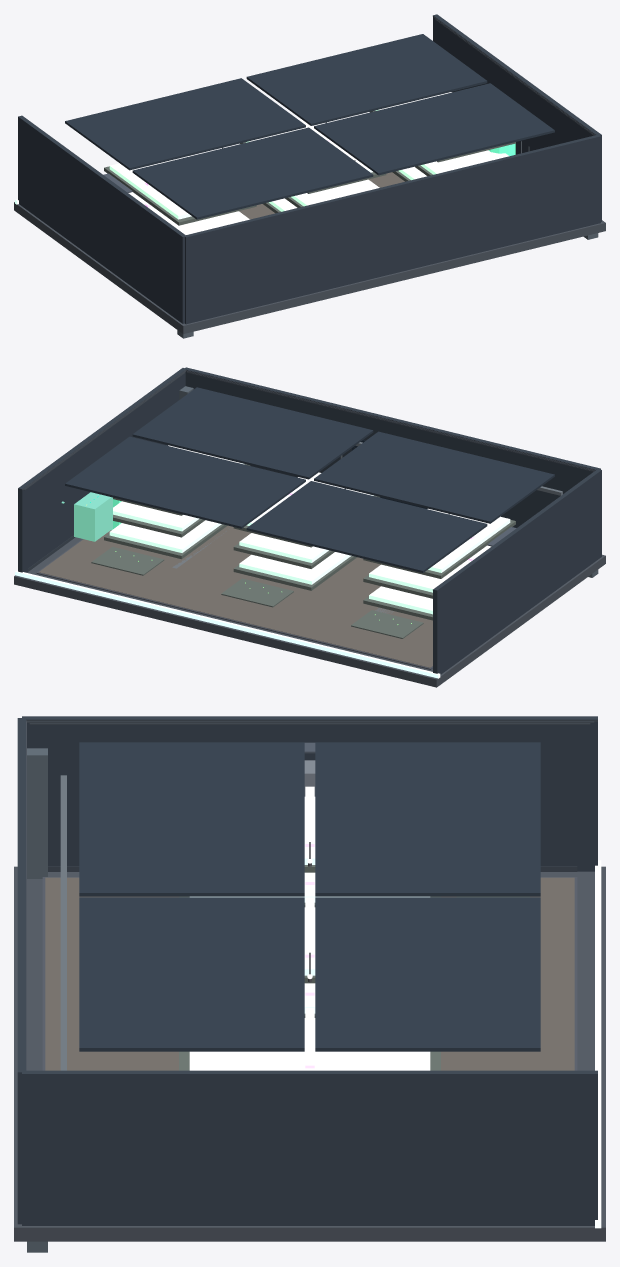
Rendered from floor-vertical-farm.glb.
The picture shows the model from 3 angles, top to bottom: view 1: azimuth 30°, elevation 25°; view 2: azimuth 150°, elevation 25°; view 3: azimuth 270°, elevation 25°; orthographic projection. The views are drawn at different scales.
Visible parts, largest first — view 1: WallBack_food, WallL_food, Coffer_-1_-1_food, Coffer_-1_1_food, Coffer_1_1_food, Coffer_1_-1_food, Slab_food, WallR_food, Crop_0_2, Crop_0_1, Crop_1_1, Crop_2_1 (+2 smaller); view 2: FoodFloor, WallL_food, Coffer_-1_-1_food, Coffer_1_-1_food, Coffer_-1_1_food, Coffer_1_1_food, WallR_food, WallBack_food, Slab_food, Reveal_food, Crop_1_0, Crop_2_0 (+20 smaller); view 3: WallR_food, Coffer_-1_-1_food, Coffer_-1_1_food, Coffer_1_-1_food, Coffer_1_1_food, WallL_food, Slab_food, FoodFloor, Crop_2_2, WallBack_food, Post_food_-1, Reveal_food (+5 smaller).
Part boxes in pixels (x1,y1,x2,y2): WallBack_food: (184, 134, 600, 324); WallL_food: (18, 115, 185, 323); Coffer_-1_-1_food: (132, 127, 373, 219); Coffer_-1_1_food: (65, 78, 305, 170); Coffer_1_1_food: (246, 34, 487, 125); Coffer_1_-1_food: (314, 83, 554, 175); Slab_food: (14, 202, 605, 334); WallR_food: (433, 14, 601, 221); Crop_0_2: (109, 155, 192, 219); Crop_0_1: (128, 192, 249, 234); Crop_1_1: (291, 179, 379, 206); Crop_2_1: (420, 150, 509, 174); FoodFloor: (38, 525, 432, 667); WallL_food: (433, 469, 601, 674); Coffer_-1_-1_food: (314, 431, 554, 523); Coffer_1_-1_food: (132, 387, 373, 479); Coffer_-1_1_food: (246, 481, 487, 572); Coffer_1_1_food: (65, 436, 305, 528); WallR_food: (18, 368, 185, 572); WallBack_food: (184, 367, 600, 527); Slab_food: (14, 537, 605, 687); Reveal_food: (15, 570, 440, 678); Crop_1_0: (239, 552, 351, 584); Crop_2_0: (109, 520, 221, 552); WallR_food: (22, 1070, 597, 1225); Coffer_-1_-1_food: (79, 742, 304, 896); Coffer_-1_1_food: (315, 742, 540, 896); Coffer_1_-1_food: (79, 897, 304, 1051); Coffer_1_1_food: (315, 897, 540, 1051); WallL_food: (22, 716, 597, 871); Slab_food: (14, 866, 605, 1241); FoodFloor: (45, 877, 574, 1070); Crop_2_2: (189, 1018, 430, 1070); WallBack_food: (17, 718, 25, 1224); Post_food_-1: (27, 748, 47, 878); Reveal_food: (595, 860, 601, 1228).
Size of the model in its own units: 16.32 by 3.8 by 11.3.
